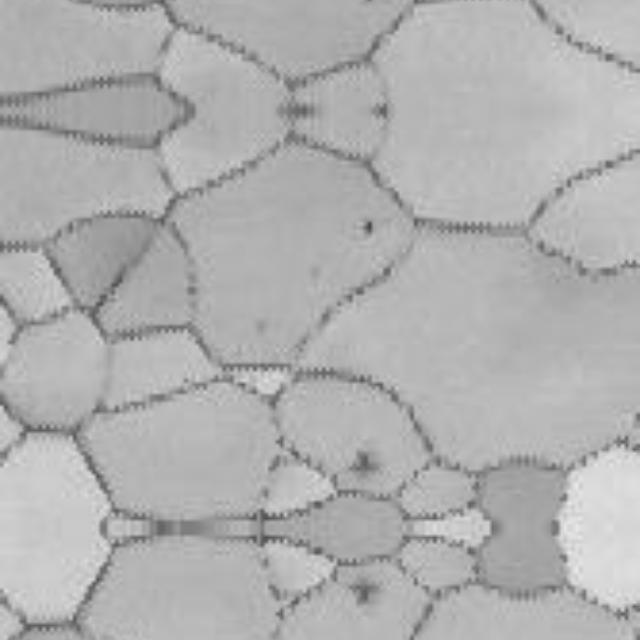good_void: (345, 452, 379, 475), (345, 583, 379, 606), (358, 219, 377, 238)
